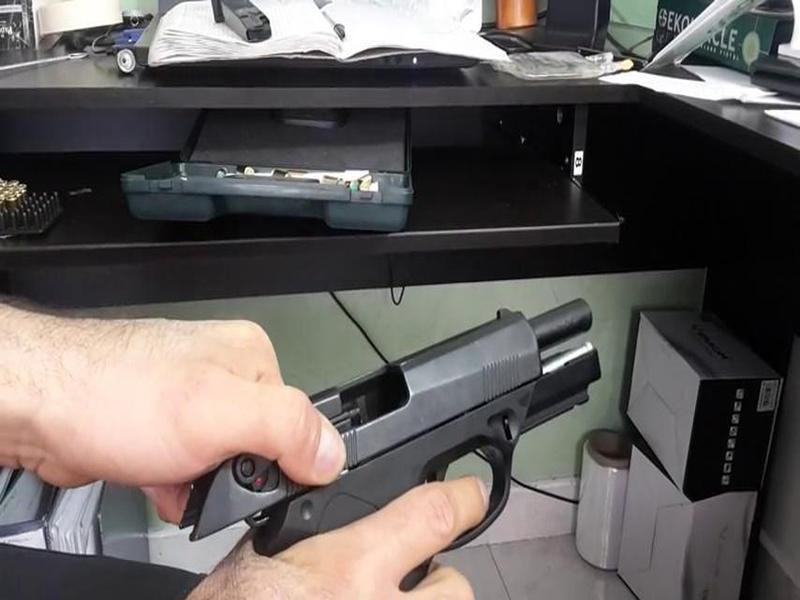Pistola: (193, 288, 633, 586)
